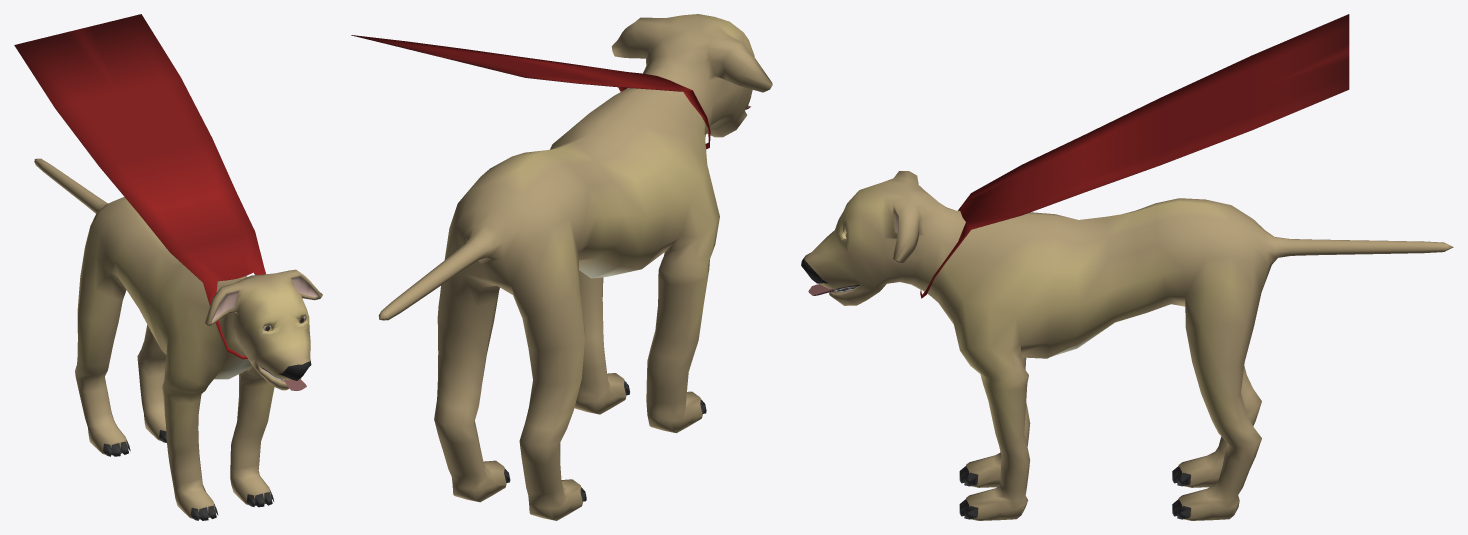
The model's file is SuperDog_GabrielTorres.fbx.
3 renders of one model, left to right at view 1: azimuth 30°, elevation 25°; view 2: azimuth 150°, elevation 25°; view 3: azimuth 270°, elevation 25°, orthographic. The views are drawn at different scales.
Visible parts, largest first — view 1: Dog, Cape; view 2: Dog, Cape; view 3: Dog, Cape.
Boxes of the visible parts, x1=… form: Dog: x1=34, y1=158, x2=322, y2=520; Cape: x1=14, y1=14, x2=265, y2=359; Dog: x1=378, y1=14, x2=772, y2=520; Cape: x1=351, y1=35, x2=710, y2=149; Dog: x1=801, y1=171, x2=1453, y2=520; Cape: x1=920, y1=14, x2=1349, y2=298.
Bounding box in the file's own units: 45.85 × 127 × 168.
